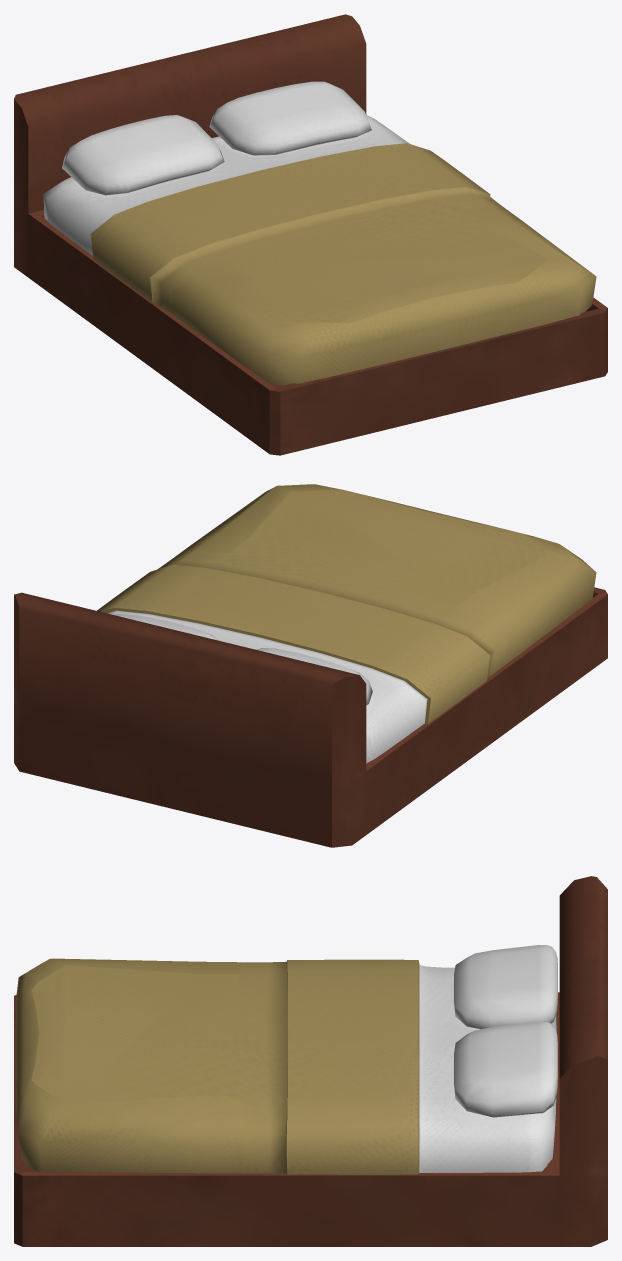
The model's file is Cama.fbx.
3 views of the same model, one above another, from view 1: azimuth 30°, elevation 25°; view 2: azimuth 150°, elevation 25°; view 3: azimuth 270°, elevation 25° (orthographic). The views are drawn at different scales.
Visible parts, largest first — view 1: Cama; view 2: Cama; view 3: Cama.
Part boxes in pixels (box(x1,y1,x2,y2)): Cama: box(14, 14, 607, 455); Cama: box(14, 484, 607, 847); Cama: box(14, 876, 607, 1246).
Size of the model in its own units: 198 by 94.1 by 269.
Materials: 1 (1 with a texture image).
